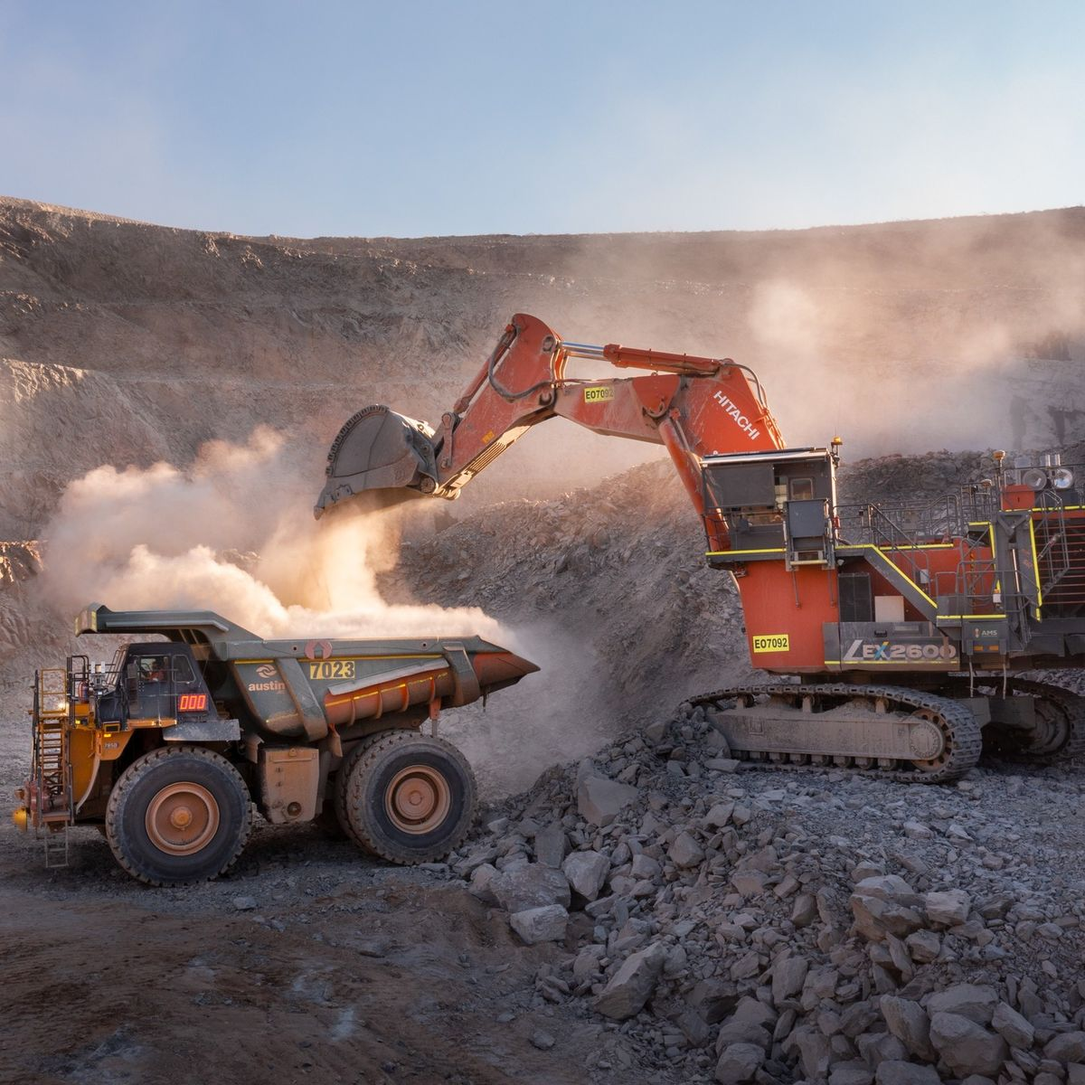excavator: (264, 265, 1070, 826)
truck: (31, 557, 564, 923)
